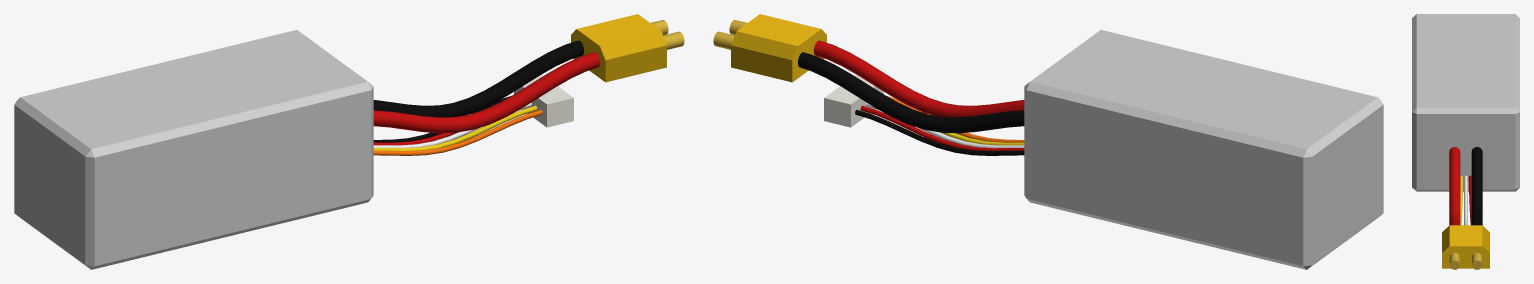
The model's file is fpv_battery.obj.
The picture shows the model from 3 angles, left to right: view 1: azimuth 30°, elevation 25°; view 2: azimuth 150°, elevation 25°; view 3: azimuth 270°, elevation 25°; orthographic projection. The views are drawn at different scales.
Parts seen in each view (by area): view 1: battery_body, xt60_housing, wire_red, wire_black, balance_plug, balance_wire_5, balance_wire_4, balance_wire_3, xt60_pins; view 2: battery_body, xt60_housing, wire_black, wire_red, balance_plug, balance_wire_1, balance_wire_2, balance_wire_3, xt60_pins; view 3: battery_body, xt60_housing, wire_red, wire_black, xt60_pins, balance_wire_3, balance_wire_2, balance_wire_4.
Part boxes in pixels (box(x1,y1,x2,y2)): battery_body: box(14, 30, 373, 269); xt60_housing: box(571, 14, 666, 82); wire_red: box(373, 52, 600, 133); wire_black: box(373, 40, 583, 117); balance_plug: box(514, 74, 573, 127); balance_wire_5: box(373, 110, 542, 155); balance_wire_4: box(373, 105, 537, 150); balance_wire_3: box(373, 103, 531, 148); xt60_pins: box(650, 20, 684, 49); battery_body: box(1024, 30, 1383, 269); xt60_housing: box(731, 14, 826, 82); wire_black: box(797, 52, 1024, 133); wire_red: box(814, 40, 1024, 117); balance_plug: box(824, 74, 883, 127); balance_wire_1: box(855, 110, 1024, 155); balance_wire_2: box(860, 105, 1024, 150); balance_wire_3: box(866, 103, 1024, 148); xt60_pins: box(713, 20, 747, 49); battery_body: box(1412, 14, 1519, 191); xt60_housing: box(1442, 225, 1489, 268); wire_red: box(1449, 147, 1460, 225); wire_black: box(1471, 147, 1482, 225); xt60_pins: box(1449, 252, 1482, 269); balance_wire_3: box(1464, 175, 1467, 225); balance_wire_2: box(1468, 175, 1471, 225); balance_wire_4: box(1460, 175, 1463, 225).
Bounding box in the file's own units: 0.162 × 0.03 × 0.035.
